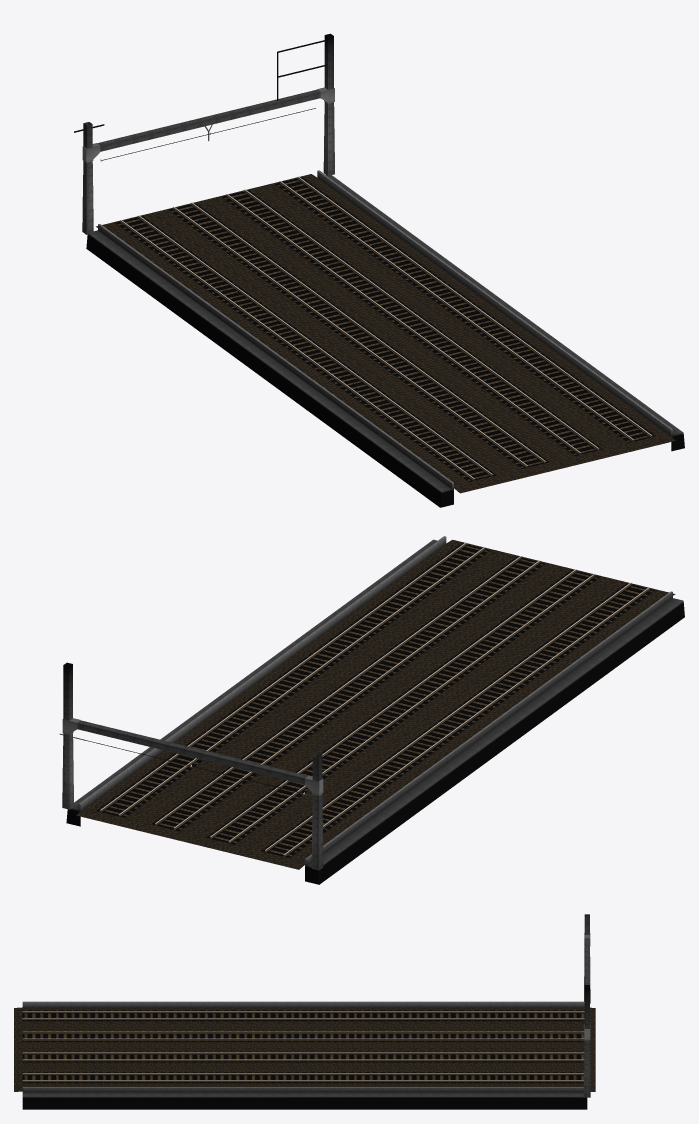
Rendered from AMB_4RAIL_NORM.glb.
The picture shows the model from 3 angles, top to bottom: view 1: azimuth 30°, elevation 25°; view 2: azimuth 150°, elevation 25°; view 3: azimuth 270°, elevation 25°; orthographic projection. The views are drawn at different scales.
Parts seen in each view (by area): view 1: Rail; view 2: Rail; view 3: Rail.
Part boxes in pixels (x1,y1,x2,y2): Rail: (74, 33, 684, 507); Rail: (59, 536, 684, 884); Rail: (14, 914, 595, 1109).
Size of the model in its own units: 64.52 by 35.99 by 178.
8 materials, 7 textured.
